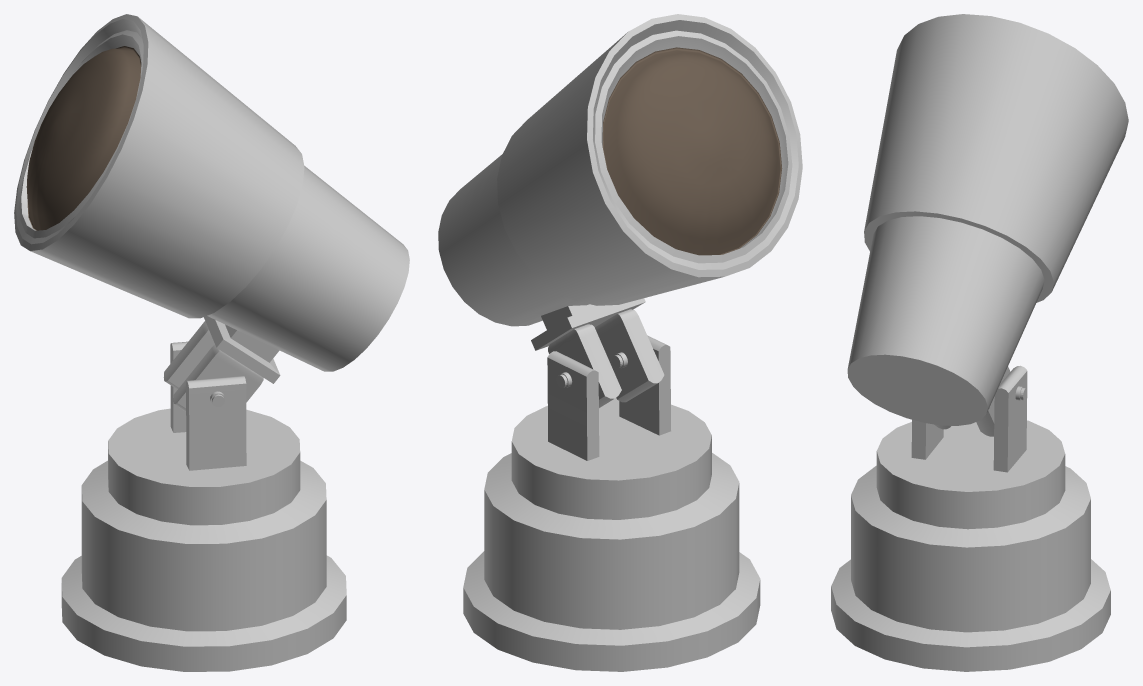
The picture shows the model from 3 angles, left to right: view 1: azimuth 30°, elevation 25°; view 2: azimuth 150°, elevation 25°; view 3: azimuth 270°, elevation 25°; orthographic projection. The views are drawn at different scales.
Visible parts, largest first — view 1: Light_Building_Spot_8; view 2: Light_Building_Spot_8; view 3: Light_Building_Spot_8.
Part boxes in pixels (bbox=[...]): Light_Building_Spot_8: bbox=[14, 14, 409, 671]; Light_Building_Spot_8: bbox=[438, 14, 802, 671]; Light_Building_Spot_8: bbox=[831, 14, 1128, 671].
Bounding box in the file's own units: 0.6401 × 1.06 × 0.4988.
